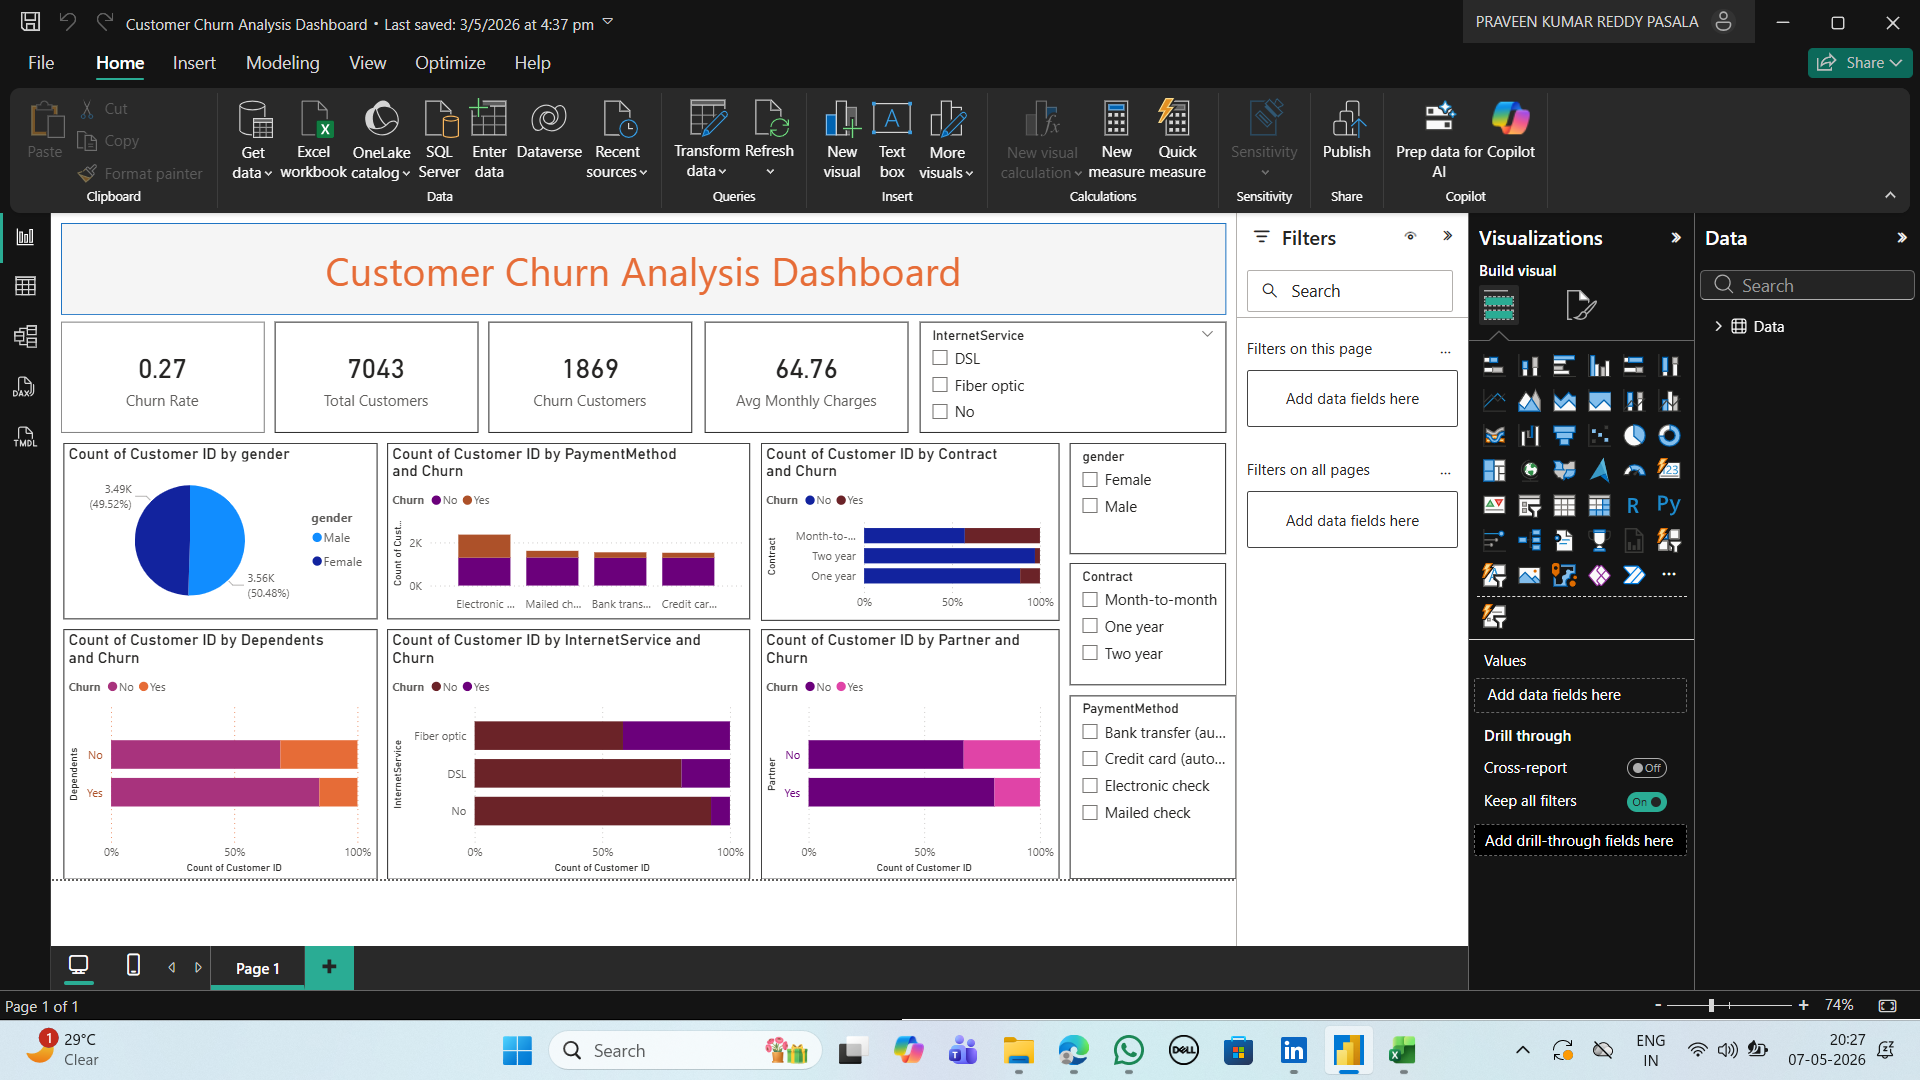

The page's visual inventory and layout, read from the dashboard file:
{"tool":"powerbi","page":{"name":"Page 1","canvas":[1280,720],"ordinal":0},"visuals":[{"type":"card","fields":{"Values":["Data.t_Customers"]},"box":[242,117.5,219.6,120.3],"z":0},{"type":"card","fields":{"Values":["Data.Churn Customers"]},"box":[472.8,117.5,220,120.3],"z":1000},{"type":"card","fields":{"Values":["Data.Churn Rate"]},"box":[11.2,117.5,219.6,120.3],"z":2000},{"type":"pieChart","fields":{"Y":["CountNonNull(Data.Customer ID)"],"Category":["Data.gender"]},"box":[13.5,248.5,339,190.4],"z":3000},{"type":"hundredPercentStackedBarChart","fields":{"Category":["Data.Partner"],"Series":["Data.Churn"],"Y":["CountNonNull(Data.Customer ID)"]},"box":[767.1,449.7,322.8,270.1],"z":4000},{"type":"hundredPercentStackedBarChart","fields":{"Category":["Data.Dependents"],"Series":["Data.Churn"],"Y":["CountNonNull(Data.Customer ID)"]},"box":[13.5,449.7,339,270.1],"z":5000},{"type":"hundredPercentStackedBarChart","fields":{"Category":["Data.Contract"],"Series":["Data.Churn"],"Y":["CountNonNull(Data.Customer ID)"]},"box":[767.1,248.5,322.8,191.8],"z":6000},{"type":"columnChart","fields":{"Category":["Data.PaymentMethod"],"Y":["CountNonNull(Data.Customer ID)"],"Series":["Data.Churn"]},"box":[363.3,248.5,391.6,190.4],"z":7000},{"type":"hundredPercentStackedBarChart","fields":{"Category":["Data.InternetService"],"Series":["Data.Churn"],"Y":["Count(Data.Customer ID)"]},"box":[363.3,449.7,391.6,270.1],"z":8000},{"type":"card","fields":{"Values":["Data.Avg_Monthly_Charges"]},"box":[706.4,117.5,220,120.3],"z":9000},{"type":"shape","box":[11.2,11.2,1259,99.3],"z":10000},{"type":"slicer","fields":{"Values":["Data.gender"]},"box":[1100.7,248.5,168.8,120.2],"z":11000},{"type":"slicer","fields":{"Values":["Data.Contract"]},"box":[1100.7,378.1,168.8,132.3],"z":12000},{"type":"slicer","fields":{"Values":["Data.InternetService"]},"box":[938.6,117.5,330.9,120.2],"z":13000},{"type":"slicer","fields":{"Values":["Data.PaymentMethod"]},"box":[1100.7,521.3,179.6,198.5],"z":14000}]}

Visuals, with their boxes on the page's 1280x720 design canvas (x1, y1, x2, y2). These are canvas units, not pixel positions in the 1920x1080 screenshot, which may show the page scaled, cropped or inside an application window:
card - Data.t_Customers: <box>242,118,462,238</box>
card - Data.Churn Customers: <box>473,118,693,238</box>
card - Data.Churn Rate: <box>11,118,231,238</box>
pieChart - CountNonNull(Data.Customer ID) x Data.gender: <box>14,248,352,439</box>
hundredPercentStackedBarChart - Data.Partner x Data.Churn: <box>767,450,1090,720</box>
hundredPercentStackedBarChart - Data.Dependents x Data.Churn: <box>14,450,352,720</box>
hundredPercentStackedBarChart - Data.Contract x Data.Churn: <box>767,248,1090,440</box>
columnChart - Data.PaymentMethod x CountNonNull(Data.Customer ID): <box>363,248,755,439</box>
hundredPercentStackedBarChart - Data.InternetService x Data.Churn: <box>363,450,755,720</box>
card - Data.Avg_Monthly_Charges: <box>706,118,926,238</box>
shape: <box>11,11,1270,110</box>
slicer - Data.gender: <box>1101,248,1270,369</box>
slicer - Data.Contract: <box>1101,378,1270,510</box>
slicer - Data.InternetService: <box>939,118,1270,238</box>
slicer - Data.PaymentMethod: <box>1101,521,1280,720</box>
